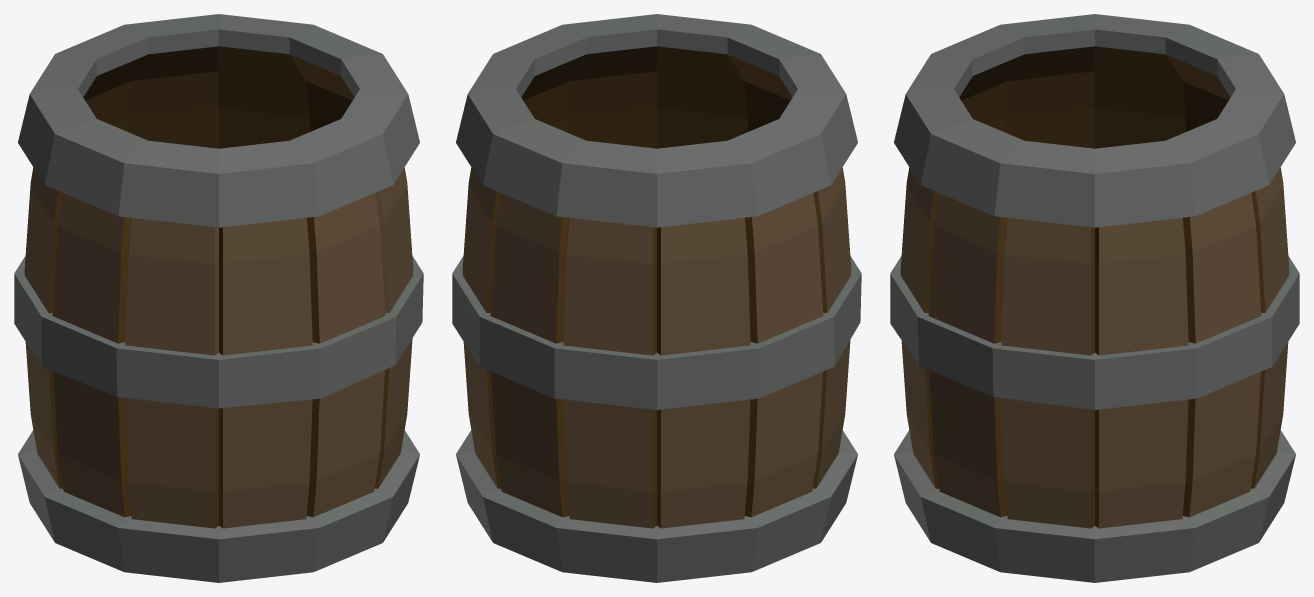
The model's file is Barrel_open.glb.
The picture shows the model from 3 angles, left to right: view 1: azimuth 30°, elevation 25°; view 2: azimuth 150°, elevation 25°; view 3: azimuth 270°, elevation 25°; orthographic projection.
Visible parts, largest first — view 1: Barrel_open; view 2: Barrel_open; view 3: Barrel_open.
Part boxes in pixels (left/top/right/bottom): Barrel_open: left=14, top=14, right=423, bottom=582; Barrel_open: left=452, top=14, right=861, bottom=582; Barrel_open: left=890, top=14, right=1299, bottom=582.
Bounding box in the file's own units: 0.1036 × 0.117 × 0.1036.
1 material, 1 textured.
